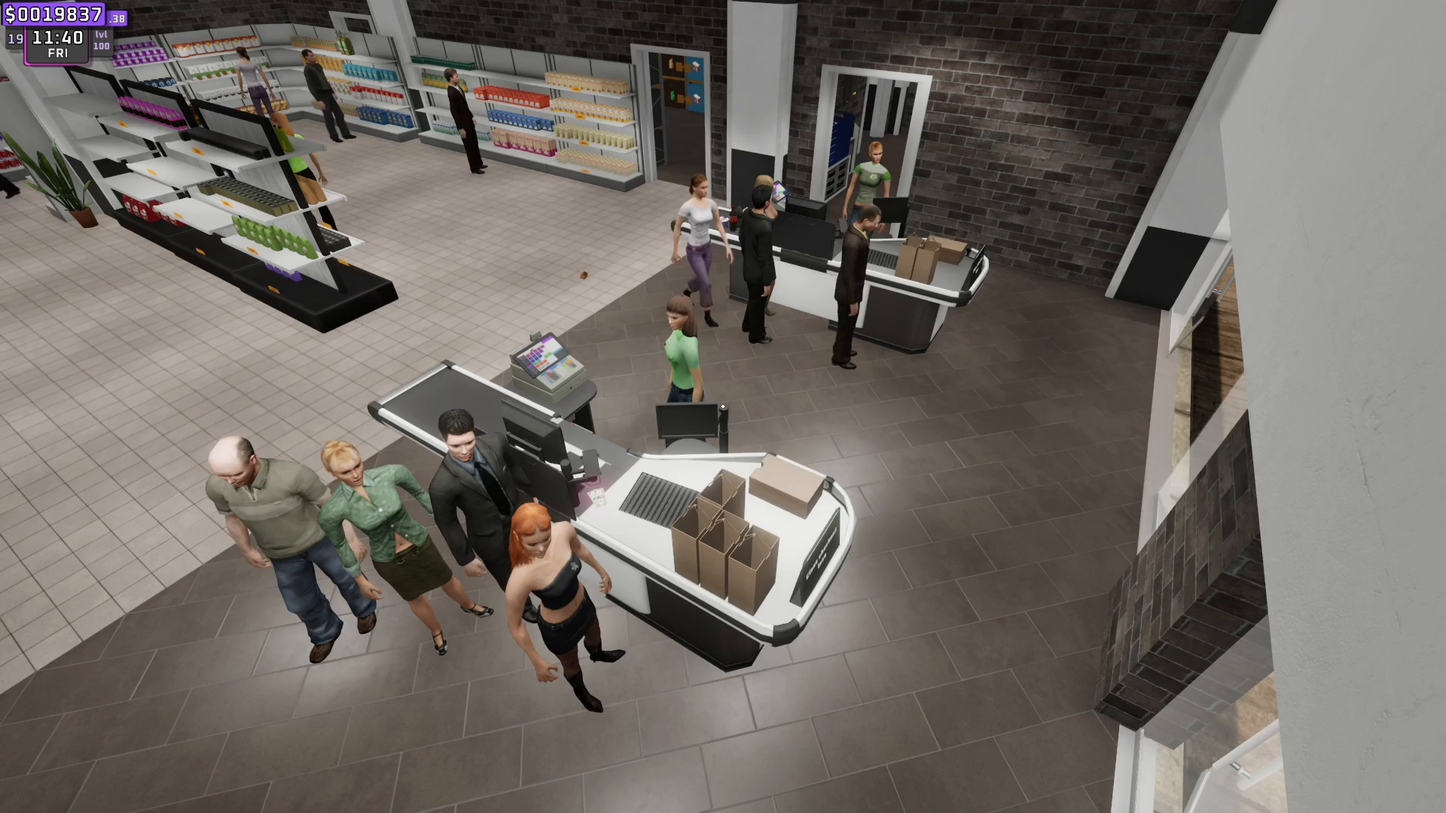Client: (192, 441, 380, 647), (323, 441, 483, 663), (513, 508, 632, 722), (424, 415, 555, 596), (734, 170, 791, 341), (836, 205, 870, 375), (686, 173, 718, 349)
Employee: (647, 304, 713, 398), (851, 136, 885, 207)
